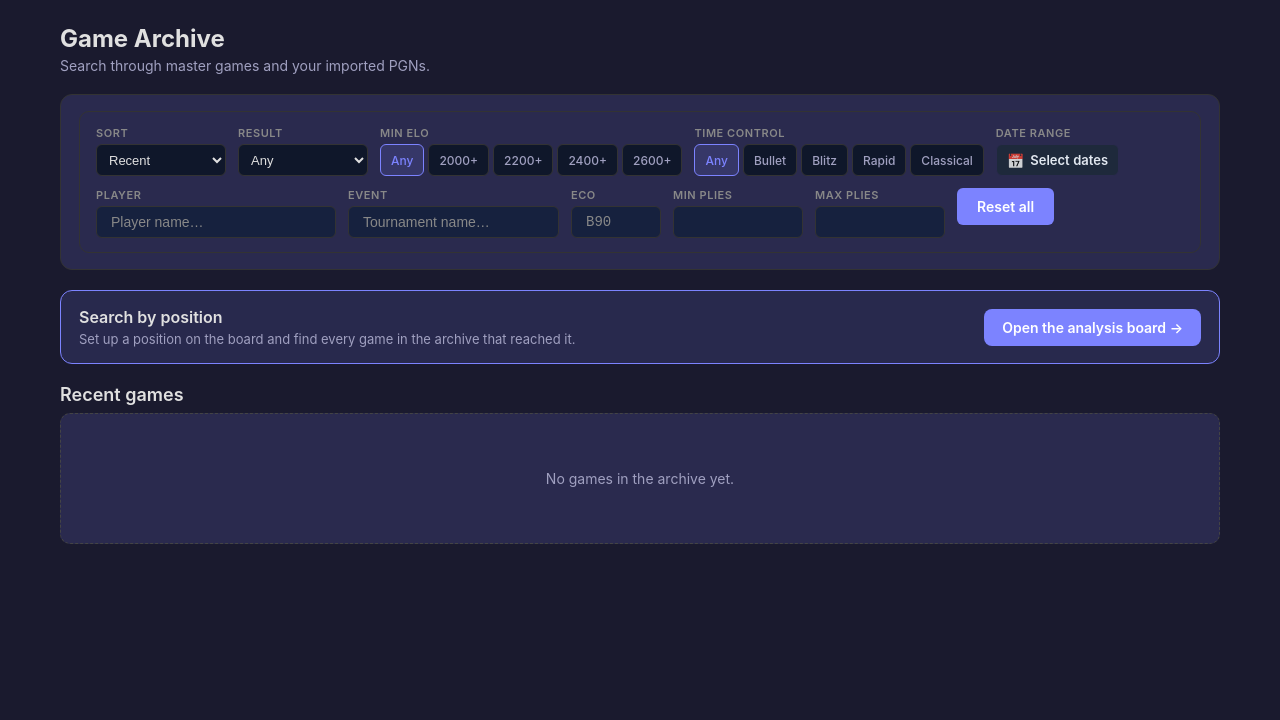
Scenario: ArchiveLobbyPage — header и форма › KS-2125/KS-2210: Enter в Player input добавляет chip и autoNavigate
The width and height of the screenshot is (1280, 720).
Type "Carlsen" into the dropdown with test id "archive-search-form-player-input" at (216, 222), box [96, 206, 336, 238]
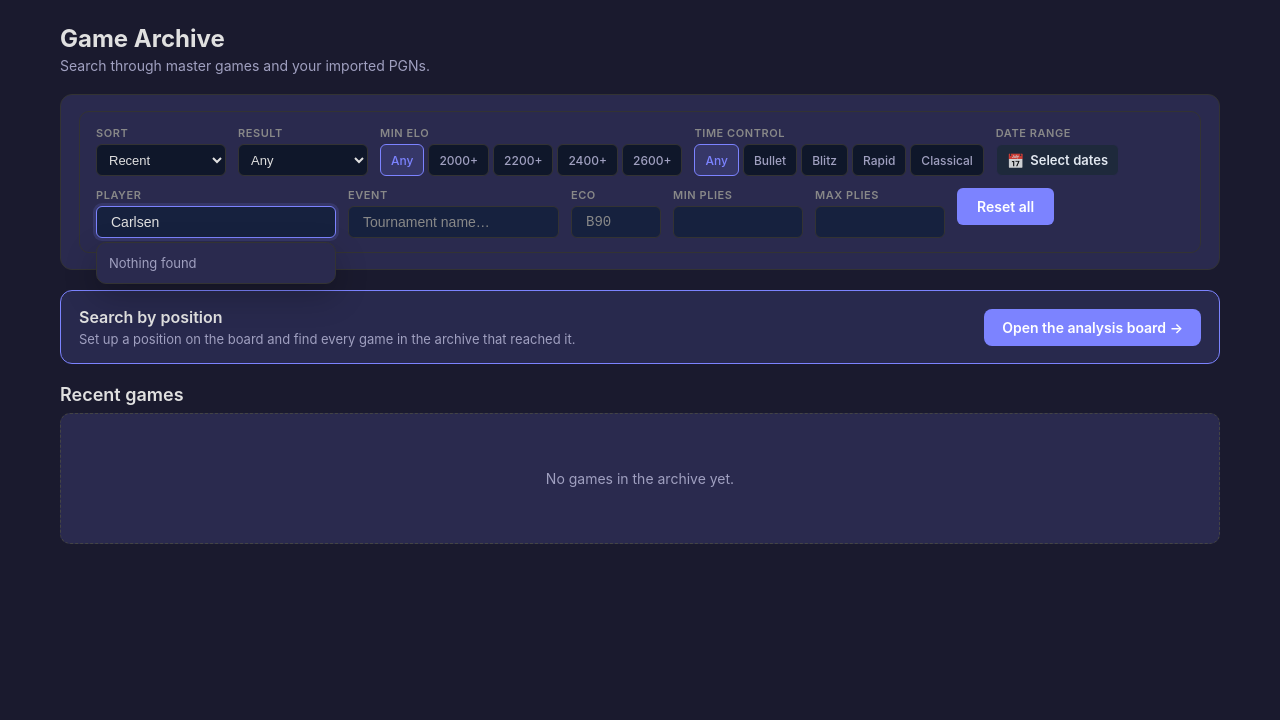
Press Enter
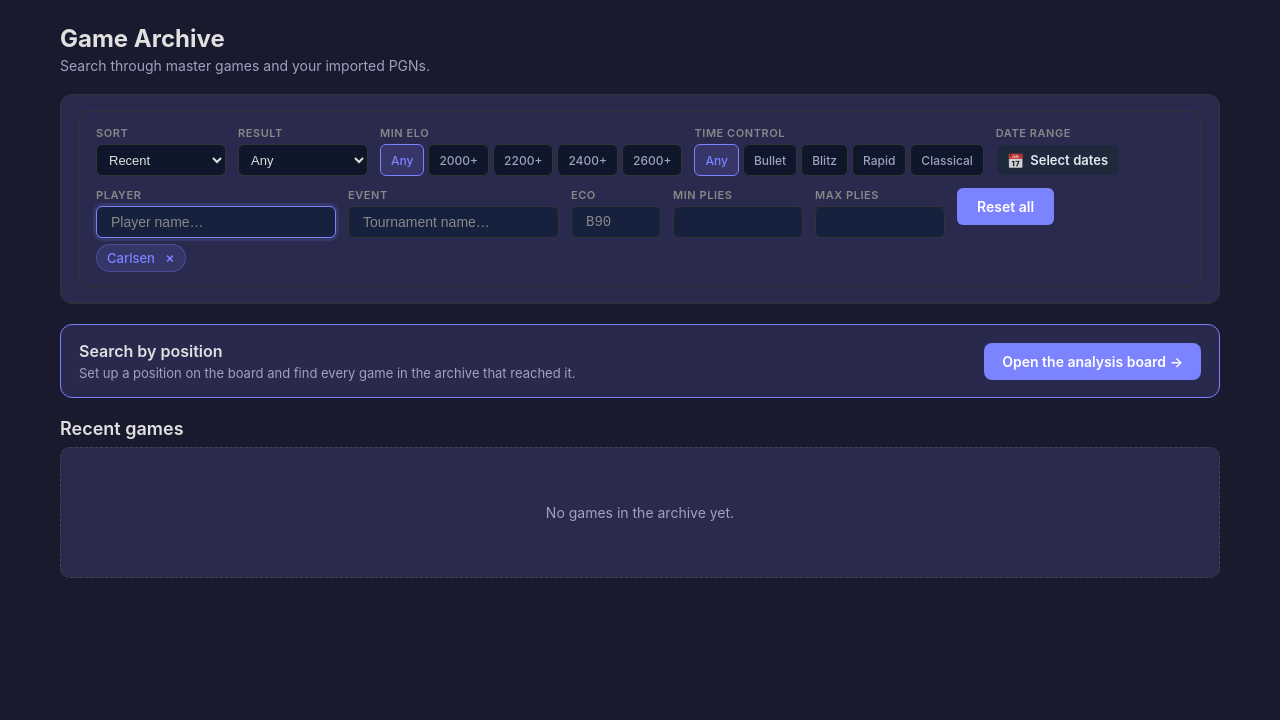
Check: the dropdown with test id "archive-search-form-player-input" is empty, box [96, 206, 336, 238]
Check: the list item with test id "archive-search-form-player-chip-Carlsen" is shown, box [96, 244, 186, 272]
